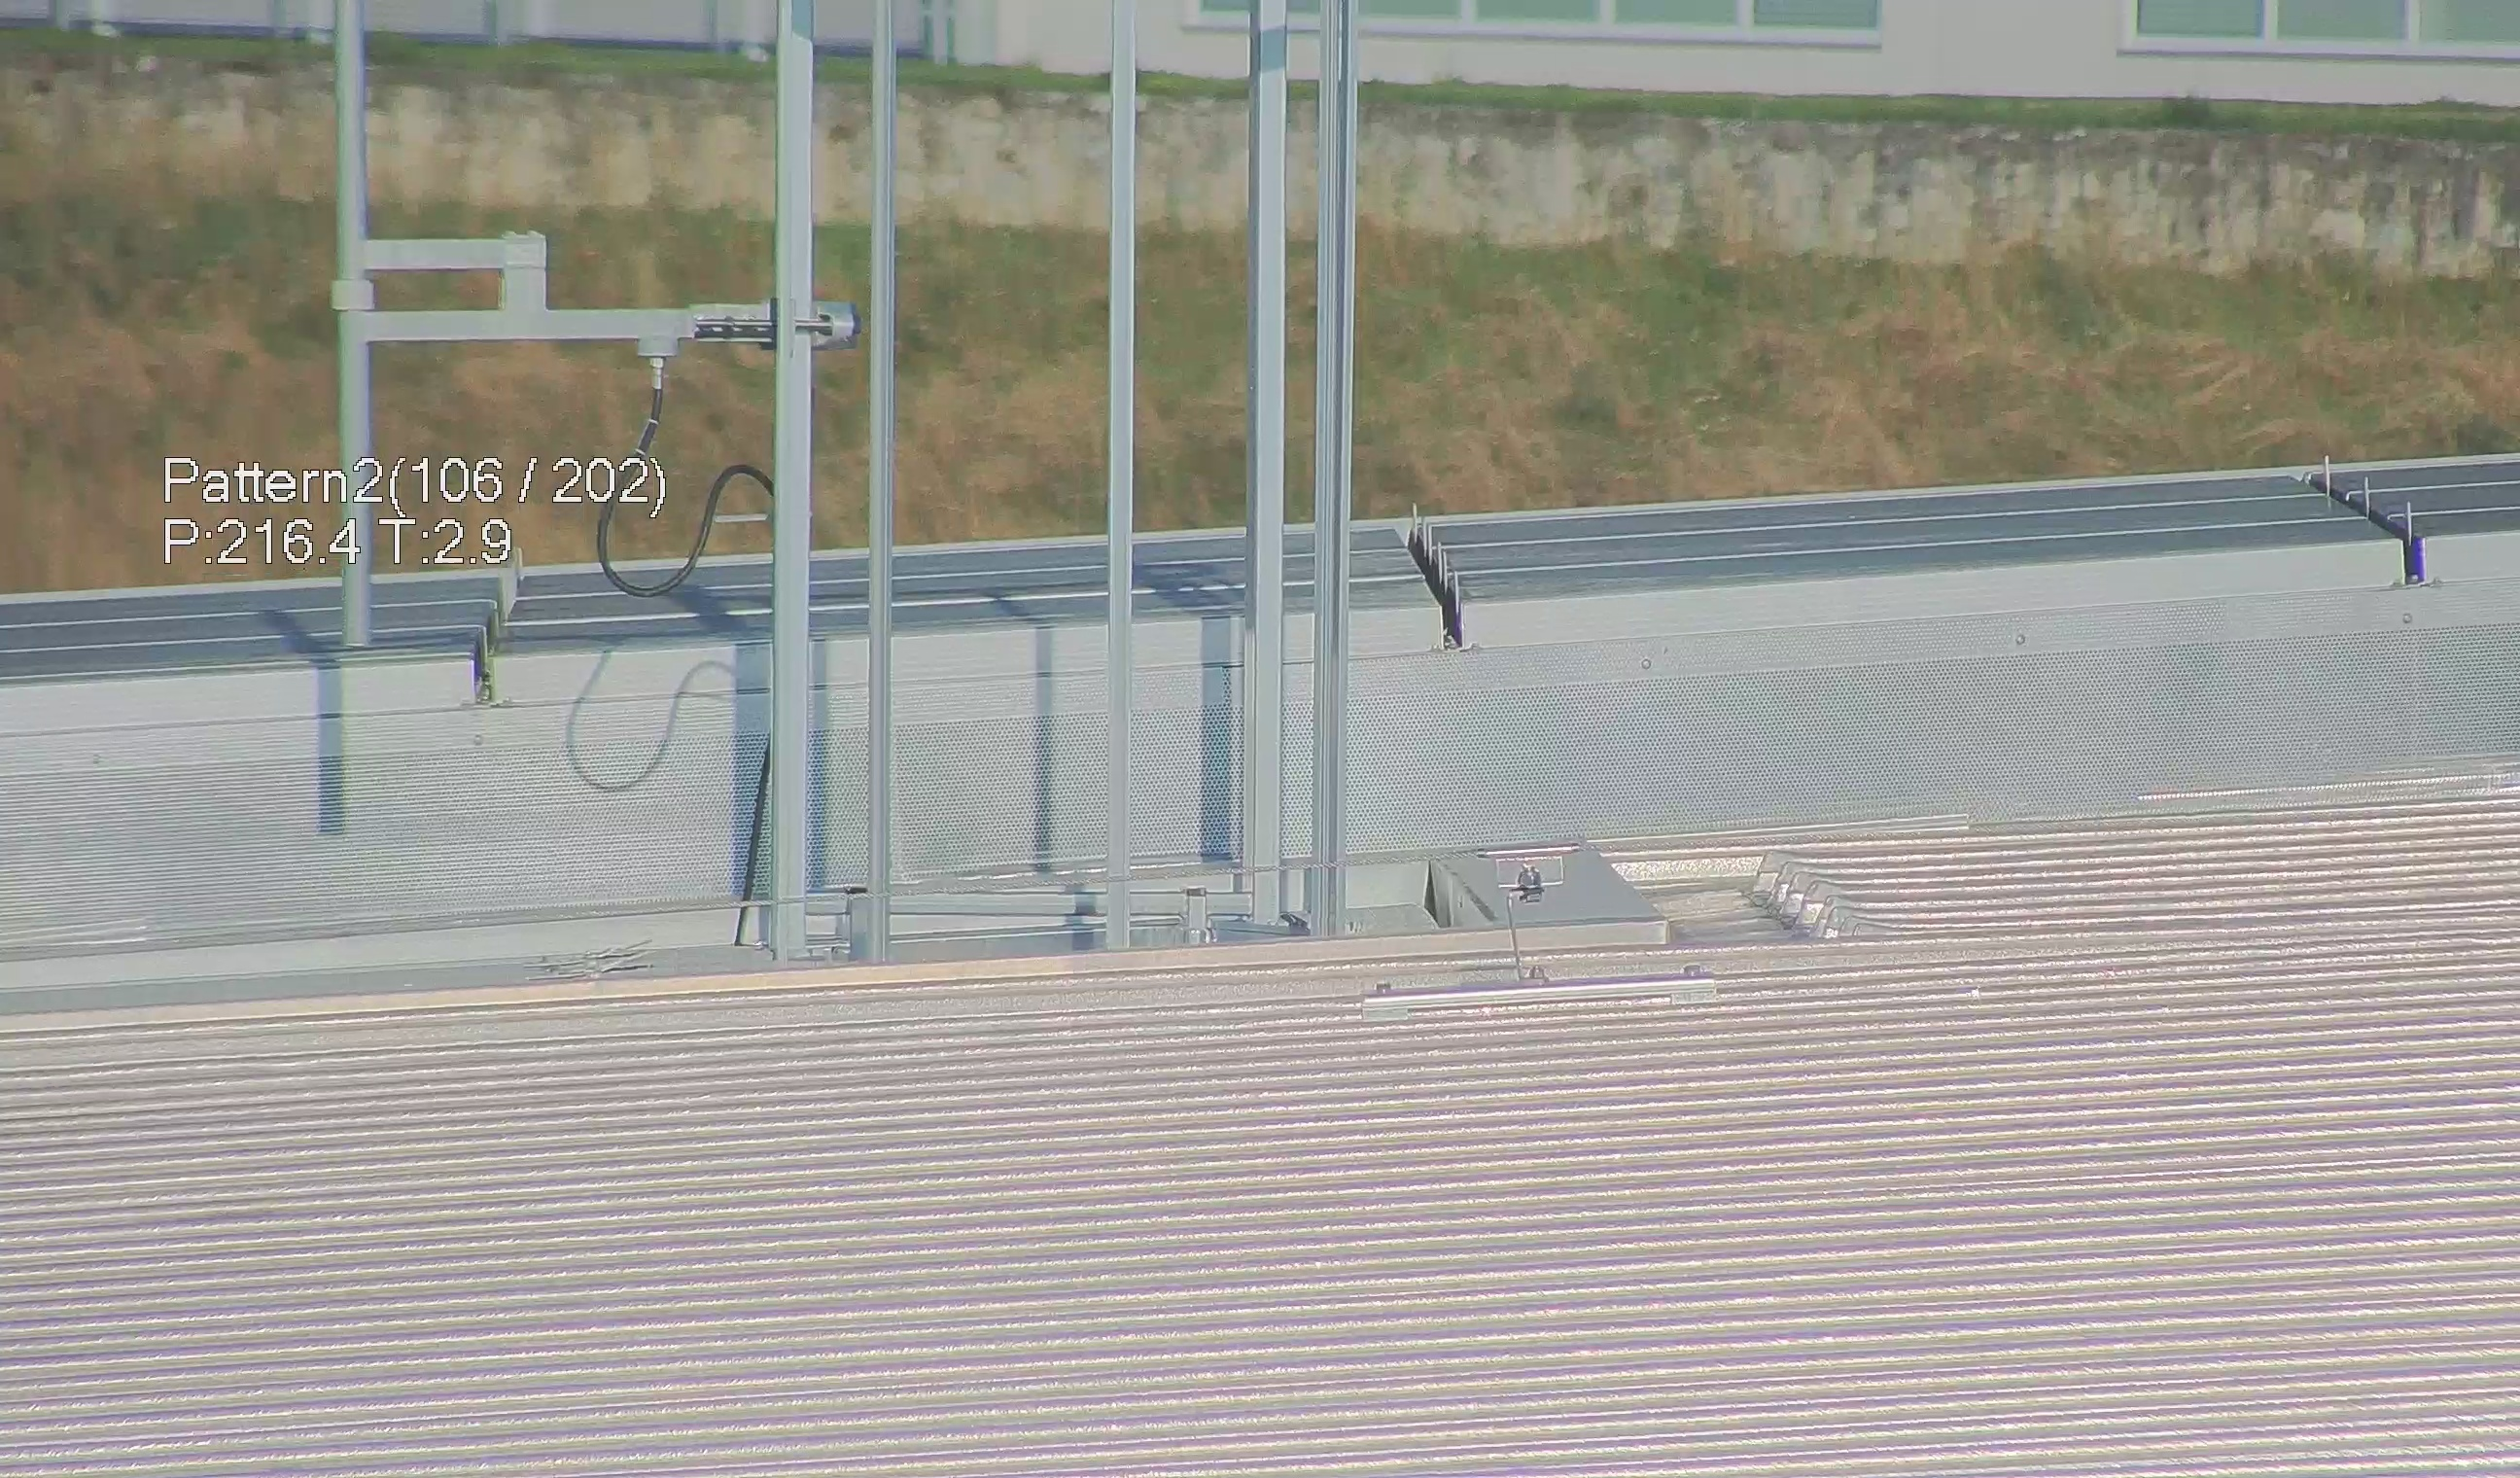Other: (1393, 501, 1484, 662)
